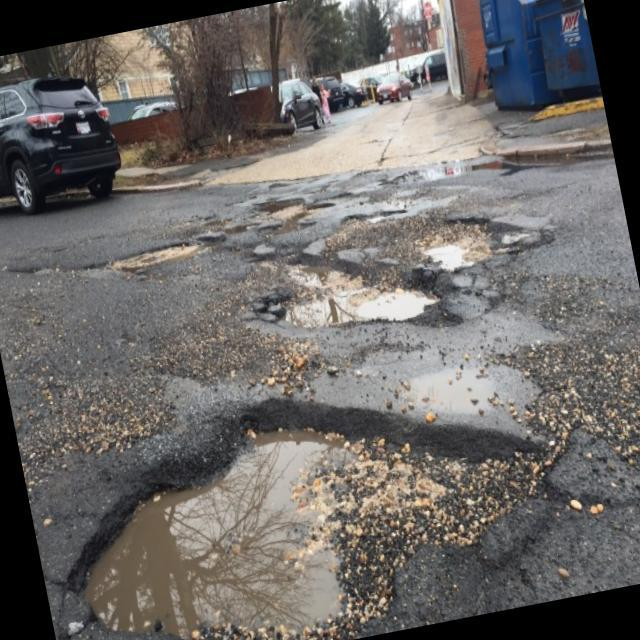Pothole: (31, 342, 576, 640), (227, 228, 458, 368), (418, 202, 524, 279), (106, 236, 204, 284), (254, 189, 308, 227), (344, 200, 404, 230), (225, 220, 255, 238)
